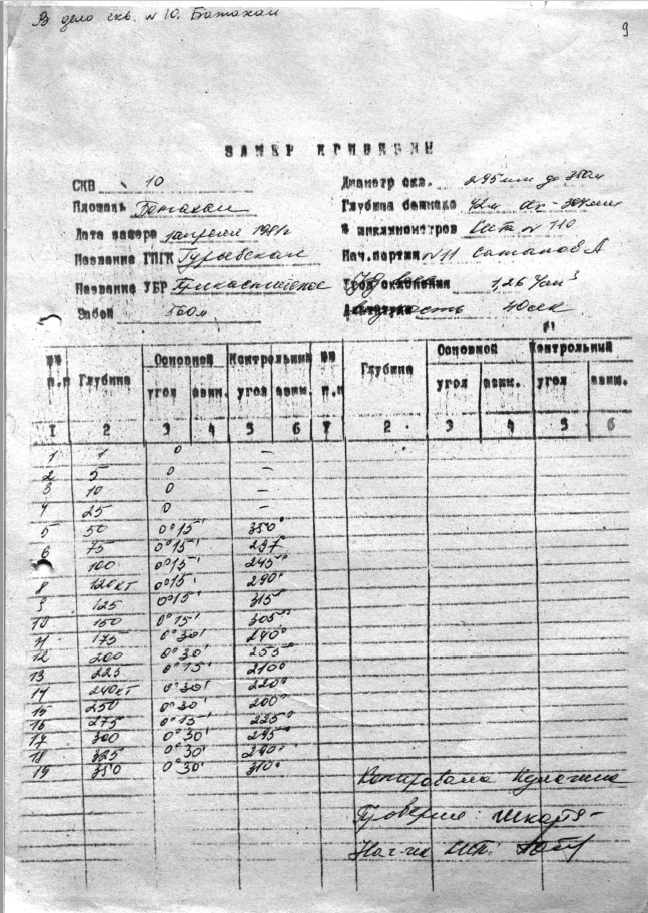Borderless: (8, 348, 648, 912)
